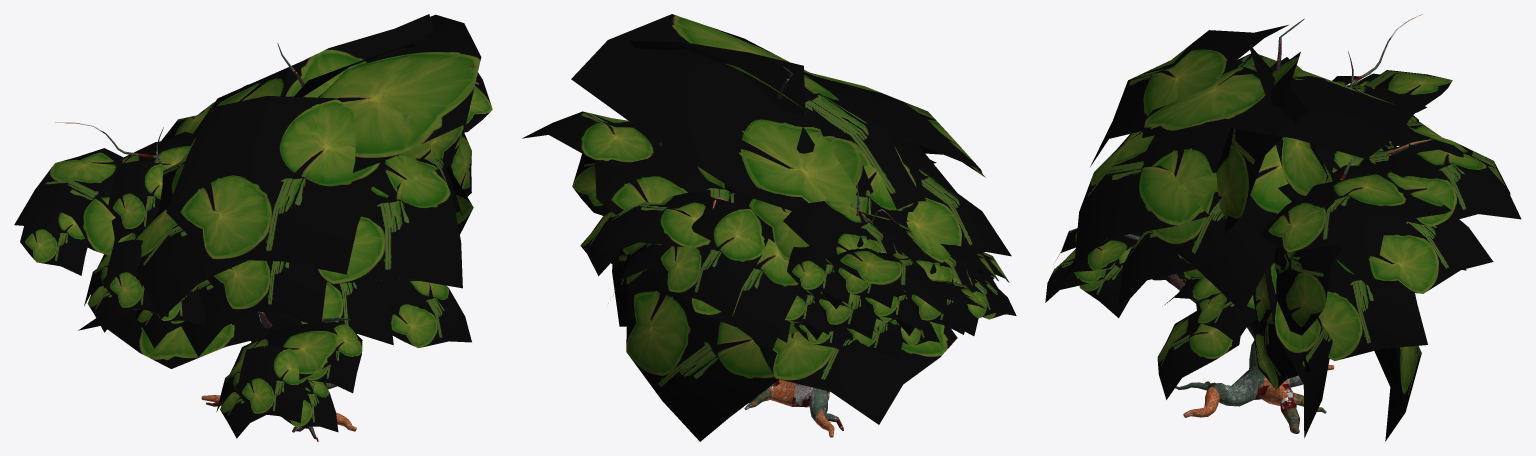
The model's file is FantasyTree.fbx.
3 views of the same model, side by side, from view 1: azimuth 30°, elevation 25°; view 2: azimuth 150°, elevation 25°; view 3: azimuth 270°, elevation 25° (orthographic). The views are drawn at different scales.
Visible parts, largest first — view 1: pPlane156; view 2: pPlane156; view 3: pPlane156.
Part boxes in pixels (left/top/right/bottom): pPlane156: left=14, top=14, right=492, bottom=441; pPlane156: left=522, top=14, right=1016, bottom=441; pPlane156: left=1045, top=14, right=1521, bottom=441.
Size of the model in its own units: 1149 by 872 by 945.
